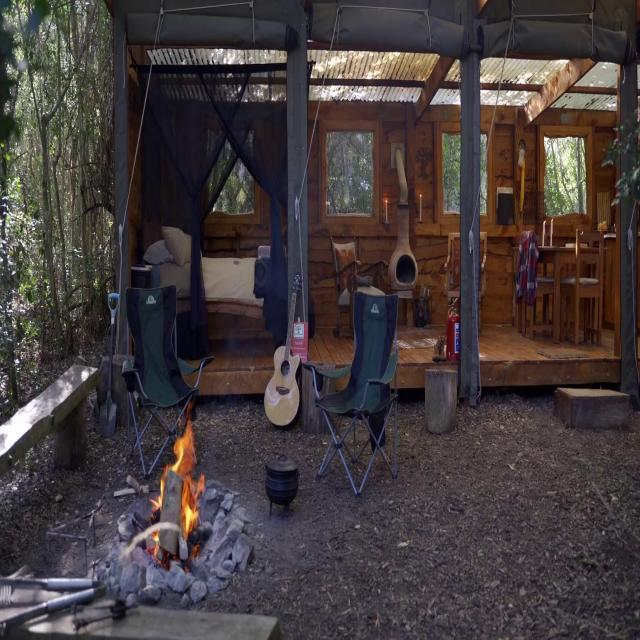Fire: (155, 414, 206, 528)
